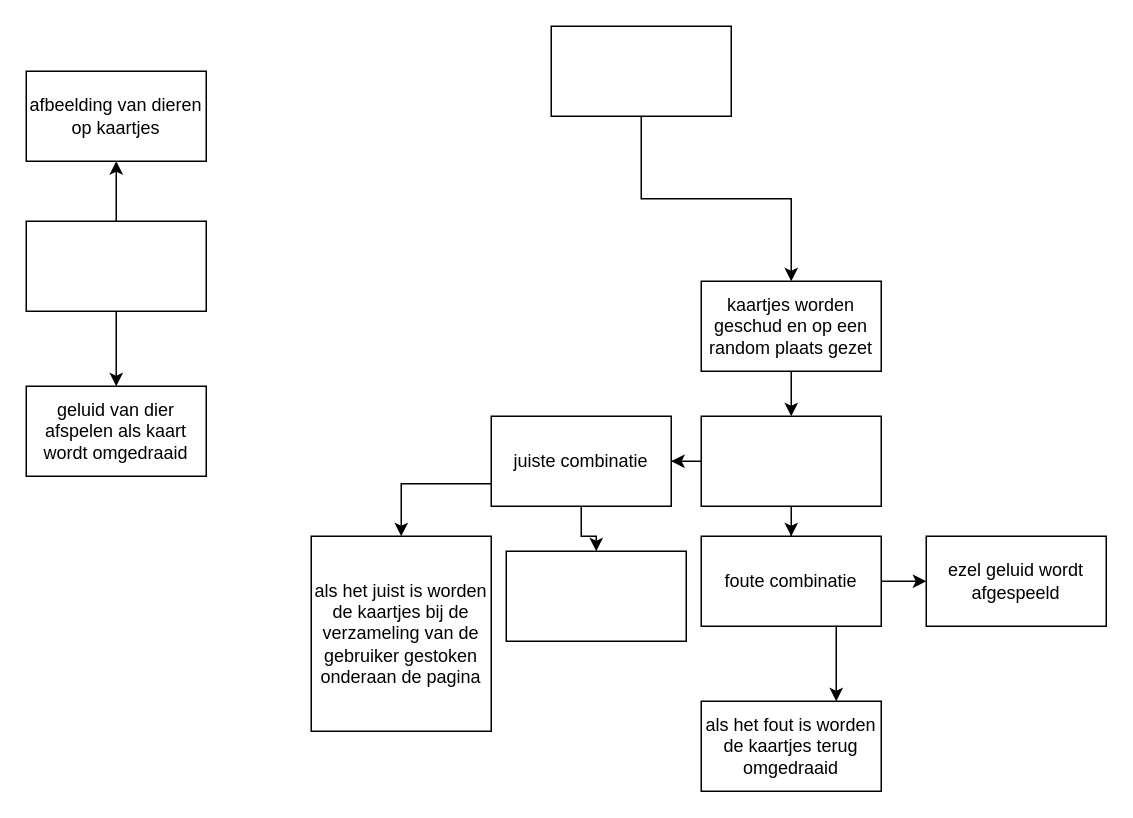
This 1133x818 diagram has some shape labels left out. Each missing label, with the centre of its shape:
"dieren memory" belongs at point 640,70.
"gebruiker klikt op kaartjes om om te draaien" belongs at point 790,460.
"geluid van kat die spint wordt afgespeeld" belongs at point 595,595.
"omgedraaide kaartjes" belongs at point 115,265.
